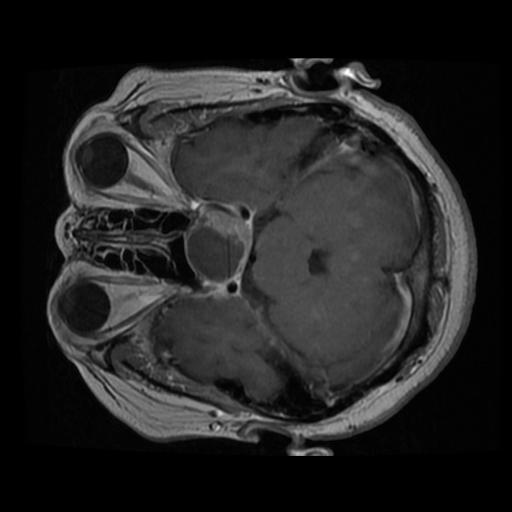pituitary tumour: (182, 211, 251, 286)
